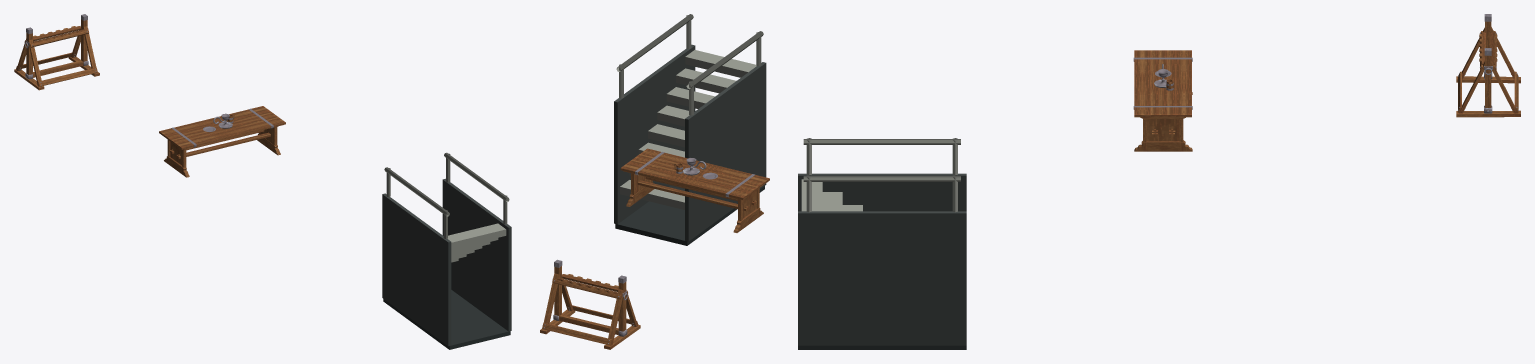
File: coastal_beacon_roof.gltf
3 renders of one model, left to right at view 1: azimuth 30°, elevation 25°; view 2: azimuth 150°, elevation 25°; view 3: azimuth 270°, elevation 25°, orthographic. The views are drawn at different scales.
Parts seen in each view (by area): view 1: fdaaf720662177919f20f07373ee553a37f0e579d9c44ff8a4237ecab9fa, f4b04e3619cf212187b96076e7e940da50275113f8897ecbcd59f5921342, 71361f5f0e3651cbf9e718aa09a4ed053c36007d4373acffa9b28be748bc; view 2: fdaaf720662177919f20f07373ee553a37f0e579d9c44ff8a4237ecab9fa, f4b04e3619cf212187b96076e7e940da50275113f8897ecbcd59f5921342, 71361f5f0e3651cbf9e718aa09a4ed053c36007d4373acffa9b28be748bc, 42a4131a7f9fe484a70590f8dd3499998303718cfb71bec957ec5894fb08; view 3: fdaaf720662177919f20f07373ee553a37f0e579d9c44ff8a4237ecab9fa, f4b04e3619cf212187b96076e7e940da50275113f8897ecbcd59f5921342, 71361f5f0e3651cbf9e718aa09a4ed053c36007d4373acffa9b28be748bc.
Boxes of the visible parts, <box> form: fdaaf720662177919f20f07373ee553a37f0e579d9c44ff8a4237ecab9fa: <box>382,152,511,349</box>; f4b04e3619cf212187b96076e7e940da50275113f8897ecbcd59f5921342: <box>159,106,285,177</box>; 71361f5f0e3651cbf9e718aa09a4ed053c36007d4373acffa9b28be748bc: <box>14,14,99,90</box>; fdaaf720662177919f20f07373ee553a37f0e579d9c44ff8a4237ecab9fa: <box>614,14,766,245</box>; f4b04e3619cf212187b96076e7e940da50275113f8897ecbcd59f5921342: <box>620,148,769,232</box>; 71361f5f0e3651cbf9e718aa09a4ed053c36007d4373acffa9b28be748bc: <box>540,259,640,349</box>; 42a4131a7f9fe484a70590f8dd3499998303718cfb71bec957ec5894fb08: <box>683,158,706,175</box>; fdaaf720662177919f20f07373ee553a37f0e579d9c44ff8a4237ecab9fa: <box>798,138,966,349</box>; f4b04e3619cf212187b96076e7e940da50275113f8897ecbcd59f5921342: <box>1133,50,1192,151</box>; 71361f5f0e3651cbf9e718aa09a4ed053c36007d4373acffa9b28be748bc: <box>1456,14,1520,117</box>.
Bounding box in the file's own units: 5.65 × 4 × 12.87.
9 materials, 8 textured.
